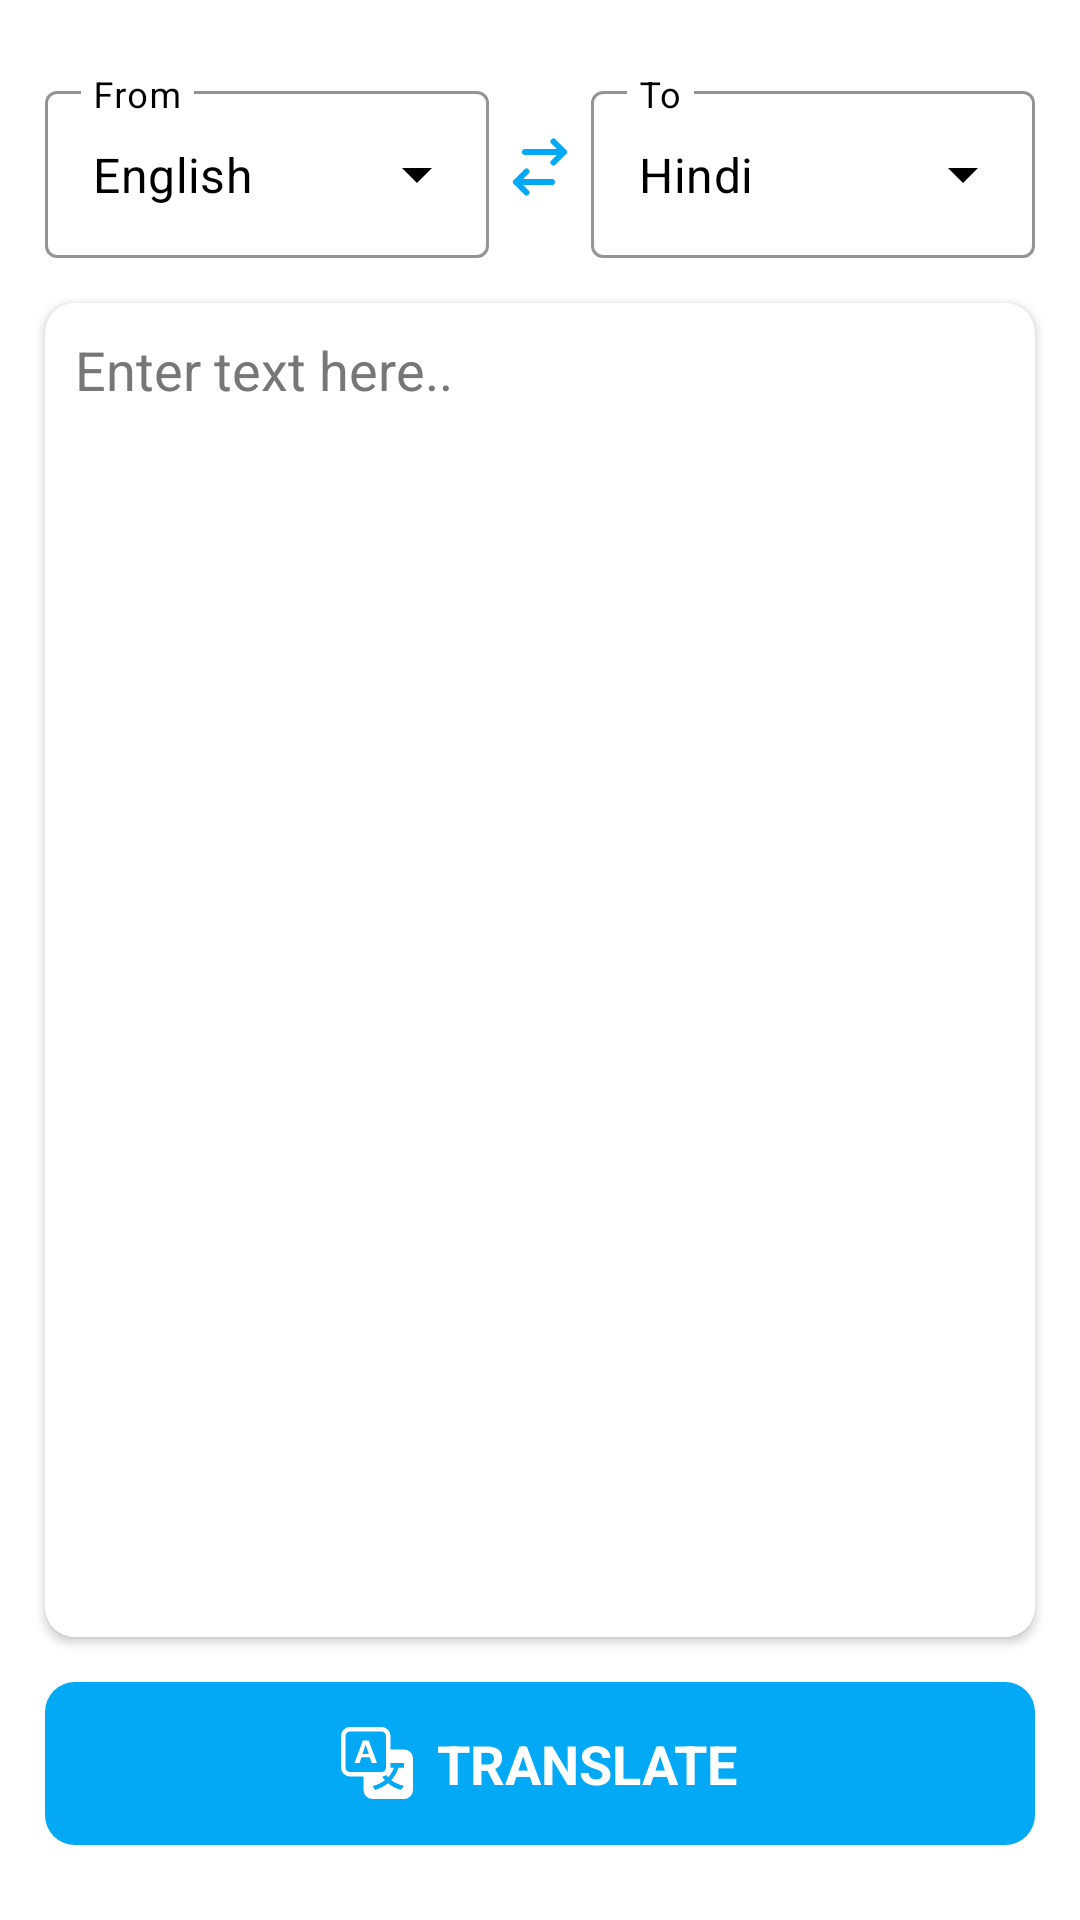

Screen size 1080px x 1920px. Icon name, then its box in pixels as (x1, y1, x2, y2):
exchange horizontal: (513, 138, 567, 196)
